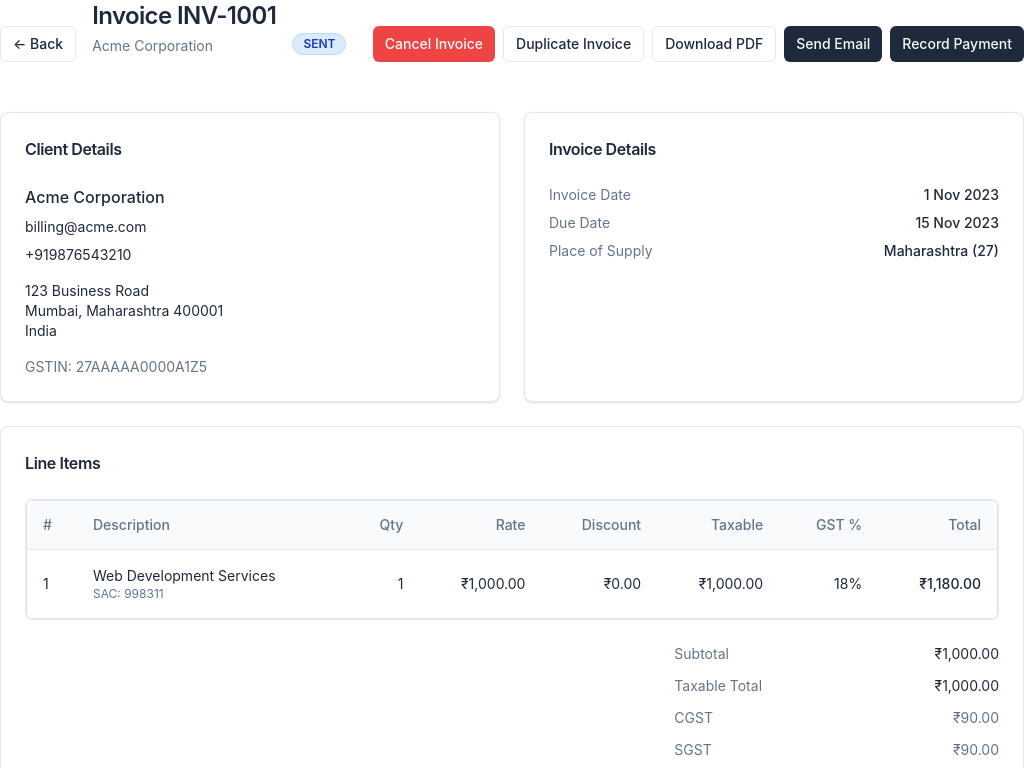
Scenario: InvoiceDetail › Cancel Invoice Workflow › shows Cancel Invoice button for SENT invoice and opens modal
The image size is (1024, 768).
Click the button "Cancel Invoice".
click(434, 44)  # box [373, 26, 495, 62]
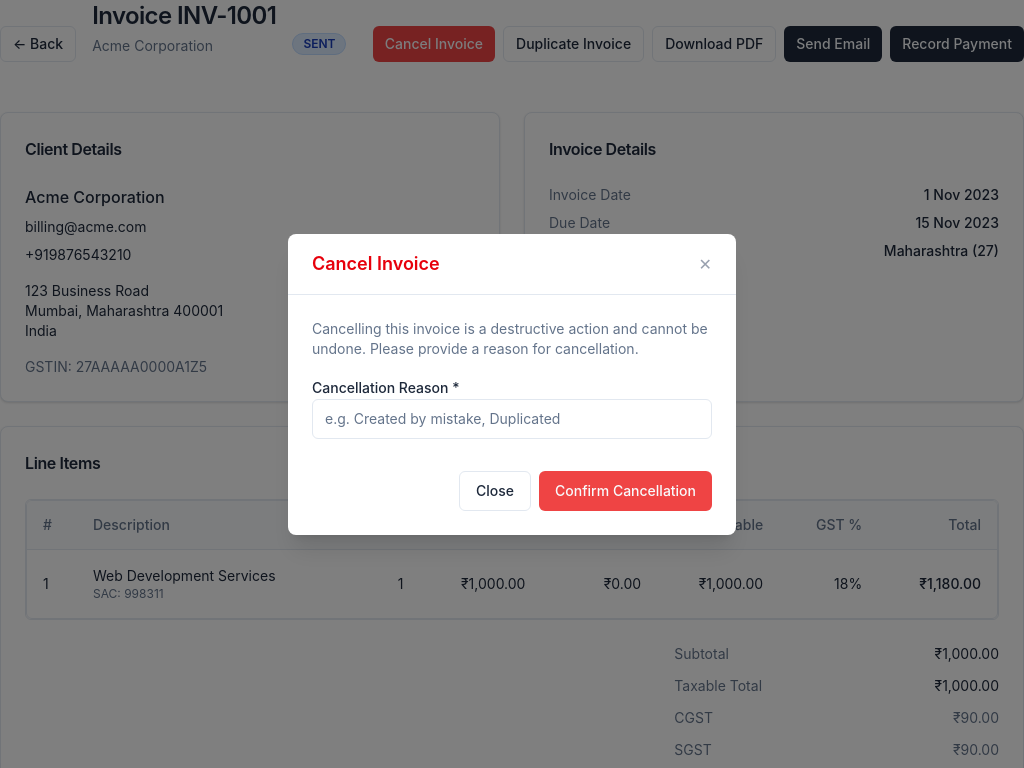
expect the dialog is shown: met, box [288, 234, 736, 534]
expect the text "Cancellation Reason *" is shown: met, box [312, 378, 460, 396]
